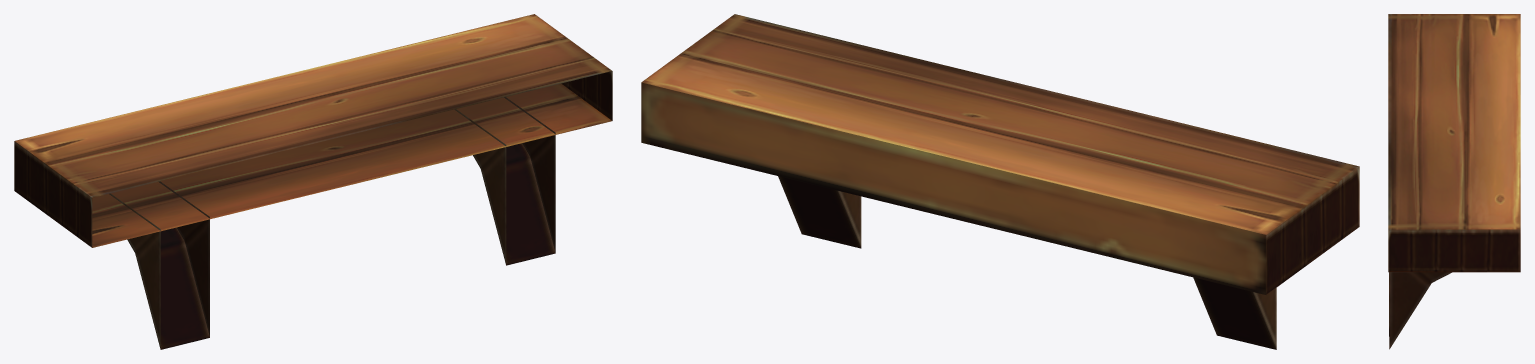
Rendered from shelf_00.fbx.
The picture shows the model from 3 angles, left to right: view 1: azimuth 30°, elevation 25°; view 2: azimuth 150°, elevation 25°; view 3: azimuth 270°, elevation 25°; orthographic projection. The views are drawn at different scales.
Visible parts, largest first — view 1: polySurface1; view 2: polySurface1; view 3: polySurface1.
Boxes of the visible parts, x1,y1,x2,y2 form: polySurface1: [14, 14, 612, 349]; polySurface1: [641, 14, 1359, 349]; polySurface1: [1388, 14, 1520, 349].
Bounding box in the file's own units: 73.31 × 22.78 × 19.
